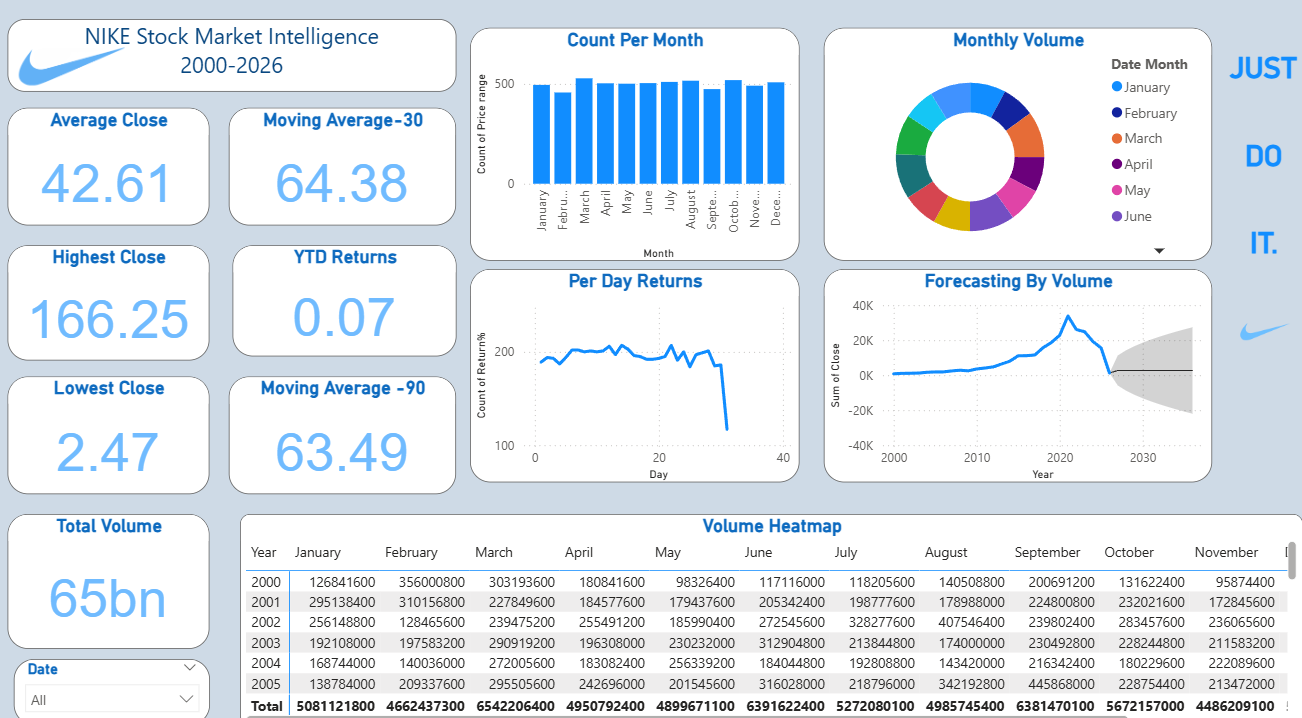

This screenshot's page, from the dashboard's own definition file:
{"tool":"powerbi","page":{"name":"Page 1","canvas":[1280,720],"ordinal":0},"visuals":[{"type":"card","title":"Average Close","fields":{"Values":["dax.Average Closing Price"]},"box":[12.3,116.6,197.6,115.3],"z":0},{"type":"card","title":"Highest Close","fields":{"Values":["dax.Highest close"]},"box":[12.3,251.1,197.6,112.5],"z":1},{"type":"card","title":"Moving Average-30","fields":{"Values":["dax.MA30"]},"box":[229.2,116.6,222.3,115.3],"z":2},{"type":"card","title":"Moving Average -90","fields":{"Values":["dax.MA90"]},"box":[229.2,378.7,222.3,115.3],"z":3},{"type":"card","title":"Total Volume","fields":{"Values":["dax.Total volume"]},"box":[12.3,513.2,197.6,131.7],"z":4},{"type":"card","title":"YTD Returns","fields":{"Values":["dax.YTD Return"]},"box":[231.9,251.1,219.6,108.4],"z":5},{"type":"card","title":"Lowest Close","fields":{"Values":["dax.Lowest close"]},"box":[12.3,378.7,197.6,115.3],"z":6},{"type":"lineChart","fields":{"Y":["dax.MA90","dax.MA30"],"Category":["NKE.Date.Variation.Date Hierarchy.Month"]},"box":[773.9,569.5,279.9,150.9],"z":7},{"type":"pivotTable","title":"Volume Heatmap","fields":{"Rows":["NKE.Date.Variation.Date Hierarchy.Year"],"Columns":["NKE.Date.Variation.Date Hierarchy.Month"],"Values":["Sum(NKE.Volume)"]},"box":[240.1,513.2,1040.1,207.2],"z":8},{"type":"lineChart","title":"Per Day Returns","fields":{"Y":["CountNonNull(NKE.Return%)"],"Category":["NKE.Date.Variation.Date Hierarchy.Day"]},"box":[465.2,274.4,322.5,208.6],"z":9},{"type":"columnChart","title":"Count Per Month","fields":{"Y":["CountNonNull(NKE.Price range)"],"Category":["NKE.Date.Variation.Date Hierarchy.Month"]},"box":[465.2,38.4,322.5,227.8],"z":10},{"type":"lineChart","title":"Forecasting By Volume","fields":{"Category":["NKE.Date.Variation.Date Hierarchy.Year","NKE.Date.Variation.Date Hierarchy.Quarter","NKE.Date.Variation.Date Hierarchy.Month","NKE.Date.Variation.Date Hierarchy.Day"],"Y":["Sum(NKE.Close)"]},"box":[811,274.4,380.1,208.6],"z":11},{"type":"slicer","fields":{"Values":["CALENDAR.Date"]},"box":[17.8,655.9,192.1,64.5],"z":12},{"type":"donutChart","title":"Monthly Volume","fields":{"Category":["NKE.Date.Variation.Date Hierarchy.Month"],"Y":["Sum(NKE.Volume)"]},"box":[811,38.4,380.1,227.8],"z":13},{"type":"textbox","box":[12.3,28.8,439.1,71.4],"z":14},{"type":"image","box":[17.8,38.4,113.9,78.2],"z":16},{"type":"textbox","box":[1202.1,38.4,78.2,293.7],"z":18},{"type":"image","box":[1202.1,251.1,78.2,170.2],"z":19}]}

Visuals, with their boxes in screenshot pixels (x1, y1, x2, y2), scaled from the page's 1280x720 canvas onto the 1302x718 screenshot:
"Average Close" card: (13,116,214,231)
"Highest Close" card: (13,250,214,363)
"Moving Average-30" card: (233,116,459,231)
"Moving Average -90" card: (233,378,459,493)
"Total Volume" card: (13,512,214,643)
"YTD Returns" card: (236,250,459,359)
"Lowest Close" card: (13,378,214,493)
lineChart - dax.MA90 x dax.MA30: (787,568,1072,717)
"Volume Heatmap" pivotTable: (244,512,1301,717)
"Per Day Returns" lineChart: (473,274,801,482)
"Count Per Month" columnChart: (473,38,801,265)
"Forecasting By Volume" lineChart: (825,274,1212,482)
slicer - CALENDAR.Date: (18,654,214,717)
"Monthly Volume" donutChart: (825,38,1212,265)
textbox: (13,29,459,100)
image: (18,38,134,116)
textbox: (1223,38,1301,331)
image: (1223,250,1301,420)
